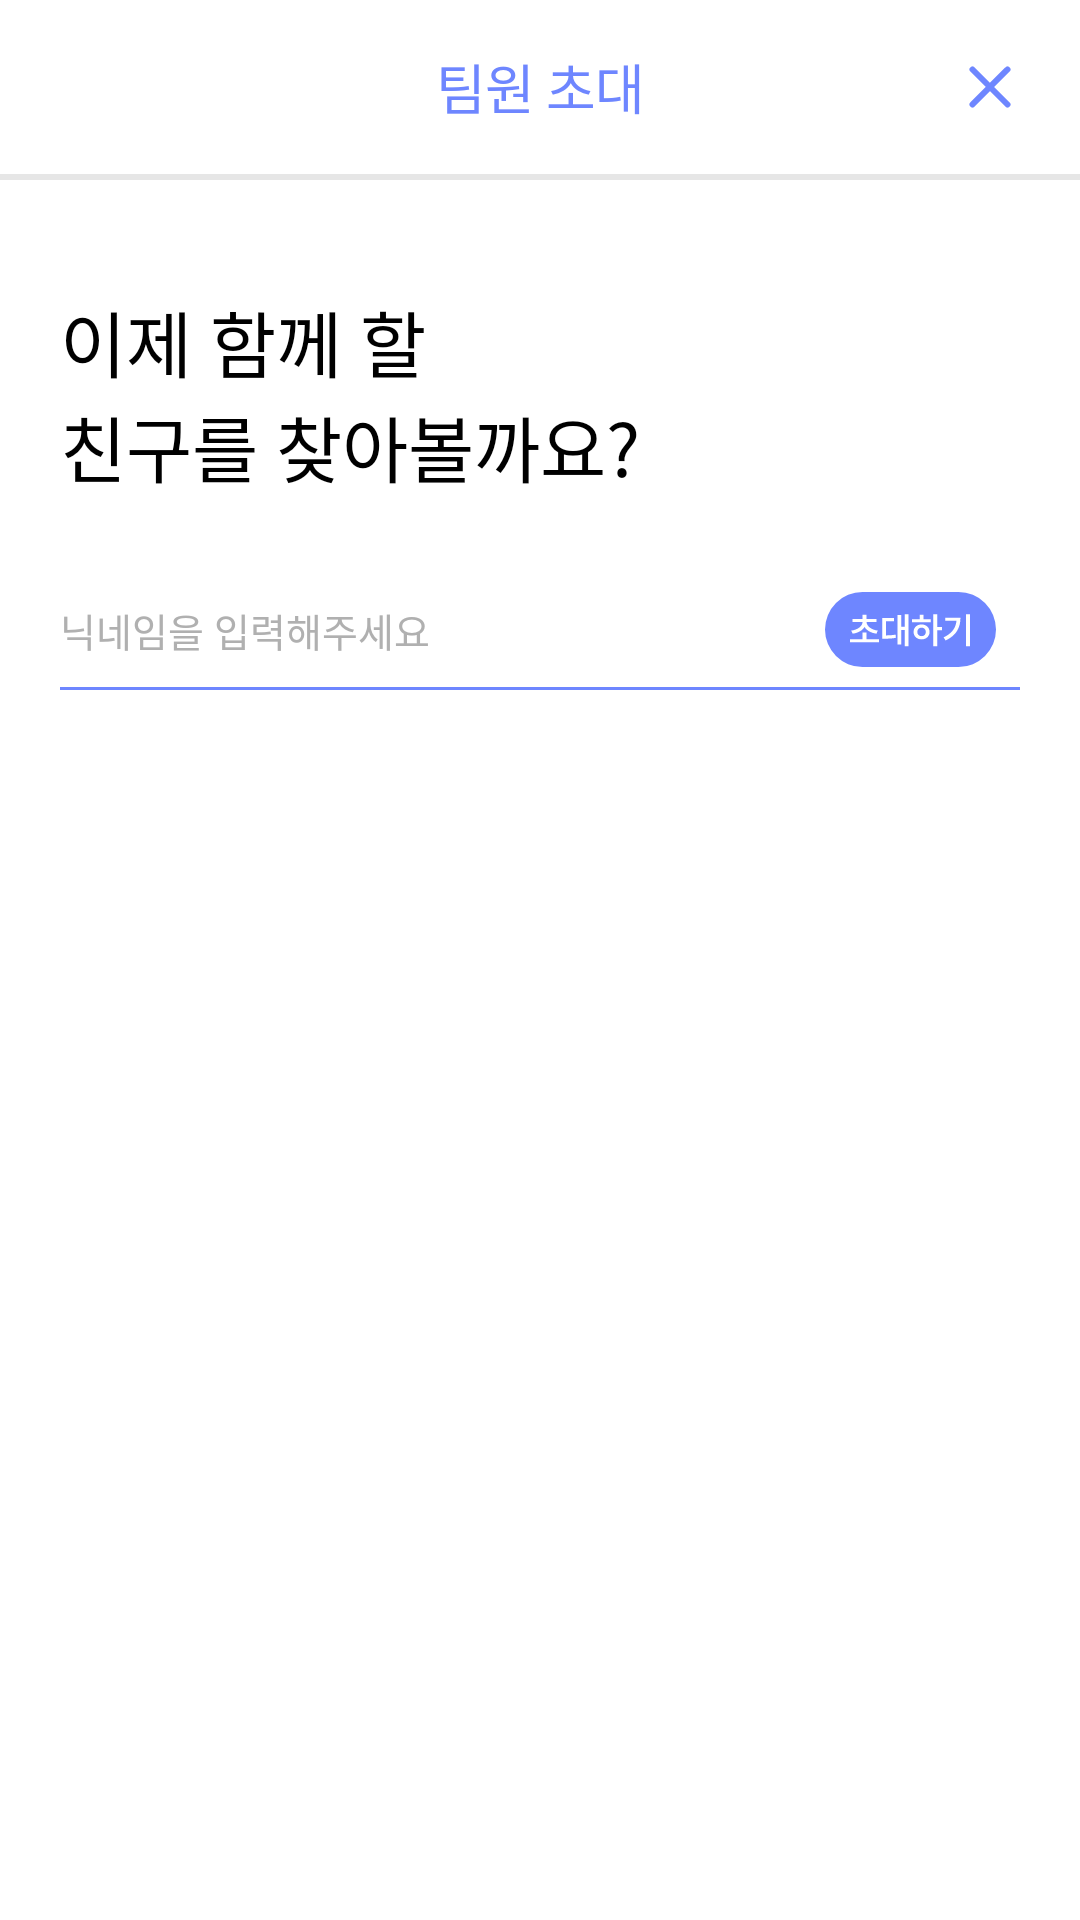

Where to tap for icons on this 1080w x 1920h app screen, as point (x, y):
close: point (990, 87)
